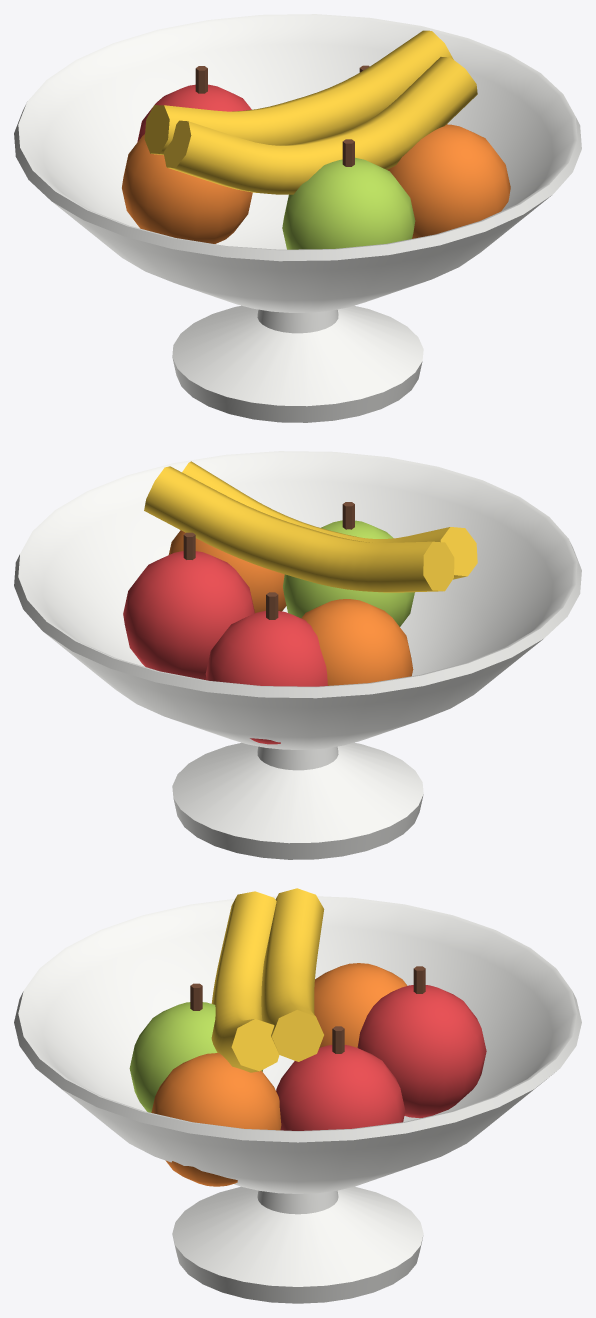
The model's file is fruteira.glb.
The picture shows the model from 3 angles, top to bottom: view 1: azimuth 30°, elevation 25°; view 2: azimuth 150°, elevation 25°; view 3: azimuth 270°, elevation 25°; orthographic projection.
Parts seen in each view (by area): view 1: fruteira; view 2: fruteira; view 3: fruteira.
Boxes of the visible parts, x1,y1,x2,y2 form: fruteira: (14,14,581,422); fruteira: (14,451,581,859); fruteira: (14,888,581,1303).
Bounding box in the file's own units: 0.28 × 0.1673 × 0.28.
Materials: 1 (1 with a texture image).
